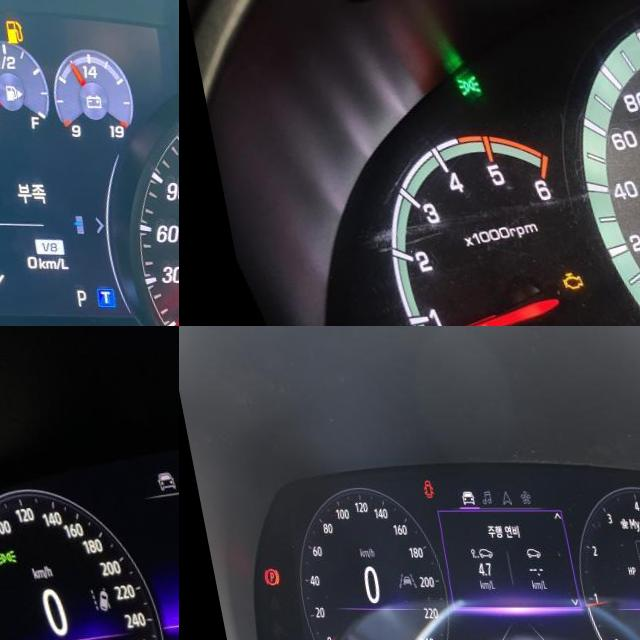Doors: (411, 477, 425, 498)
Low fuel level: (0, 18, 16, 44)
SideLamp: (445, 73, 476, 99)
